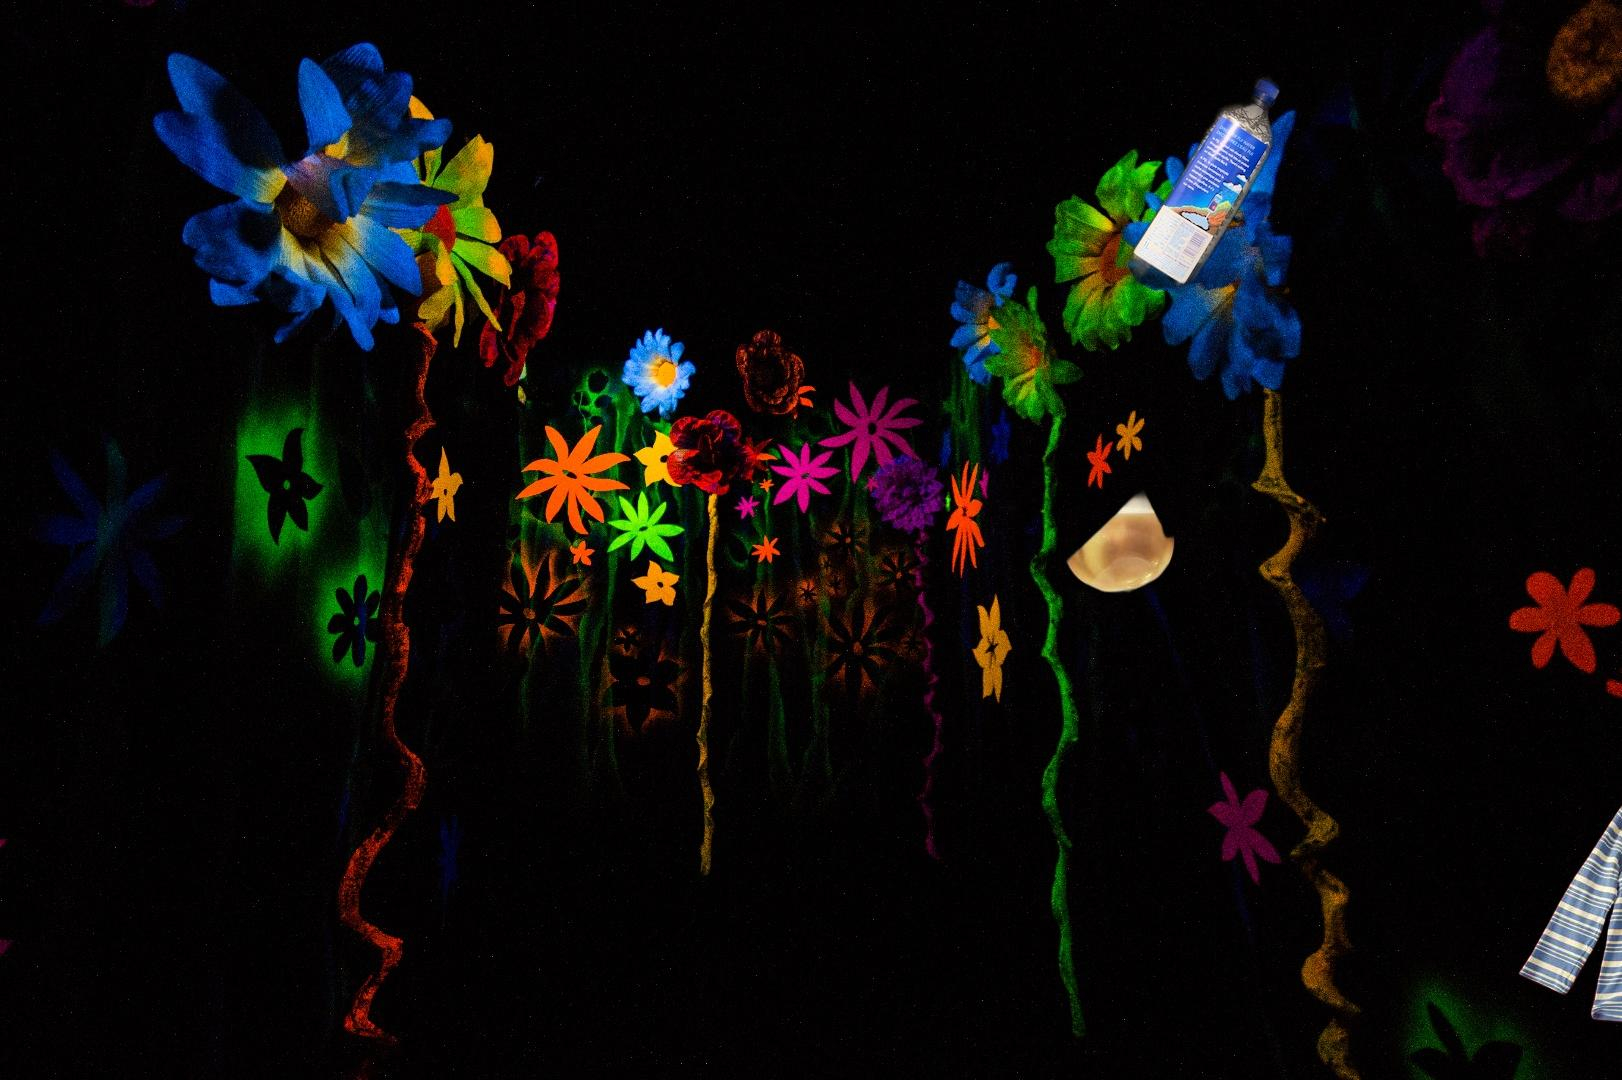clothes: (1515, 773, 1622, 1029)
paper-bag: (969, 372, 1267, 630)
plastic-bottles: (1034, 69, 1285, 370)
